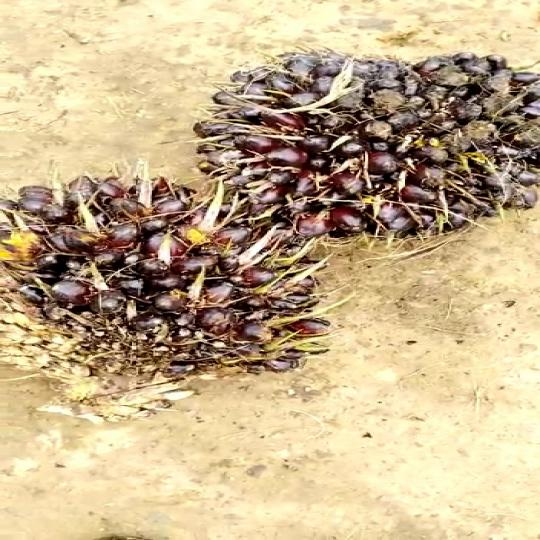mentah: (0, 165, 351, 402), (200, 39, 540, 257)
